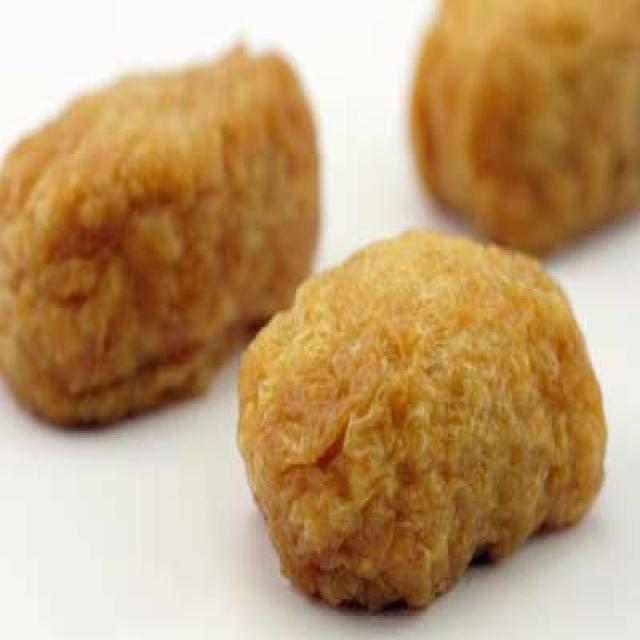寿司卷物: (8, 19, 603, 616)
